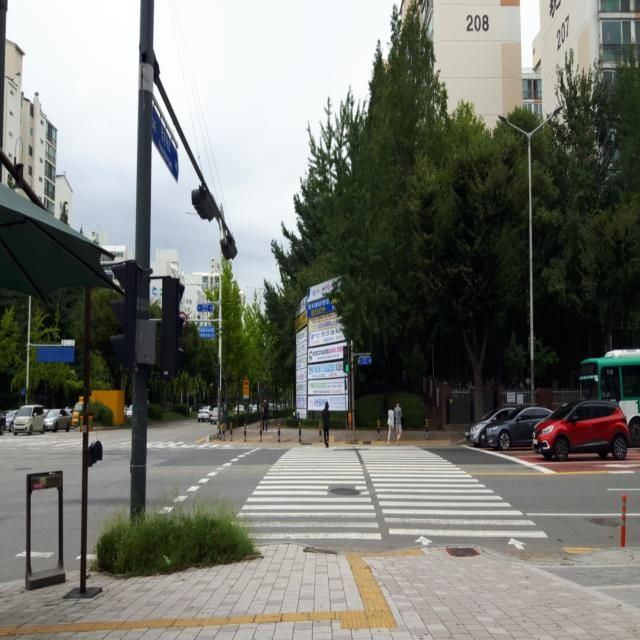초록불: (340, 344, 353, 381)
횡단보도: (231, 448, 547, 550)
